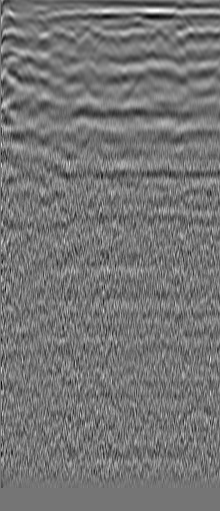오수: (30, 30, 50, 50)
우수: (181, 27, 201, 47)
